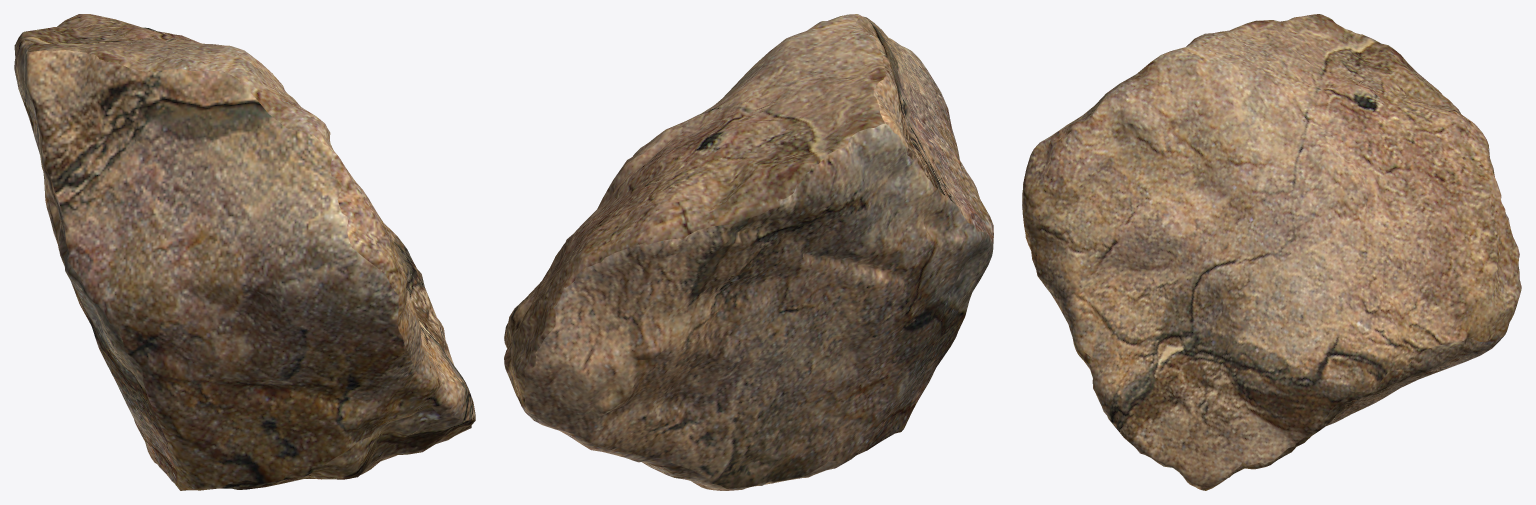
Rendered from rock03.fbx.
3 views of the same model, side by side, from view 1: azimuth 30°, elevation 25°; view 2: azimuth 150°, elevation 25°; view 3: azimuth 270°, elevation 25° (orthographic). The views are drawn at different scales.
Visible parts, largest first — view 1: Aset_rock_M_shopk_LOD3; view 2: Aset_rock_M_shopk_LOD3; view 3: Aset_rock_M_shopk_LOD3.
Part boxes in pixels (left/top/right/bottom): Aset_rock_M_shopk_LOD3: left=14, top=14, right=475, bottom=490; Aset_rock_M_shopk_LOD3: left=504, top=14, right=993, bottom=490; Aset_rock_M_shopk_LOD3: left=1022, top=14, right=1521, bottom=490.
Size of the model in its own units: 12100 by 12628 by 16084.
